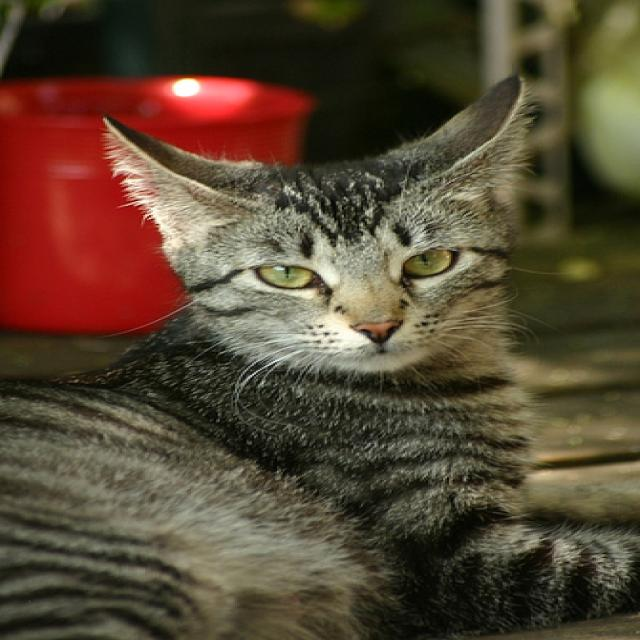cat: (1, 73, 639, 639)
